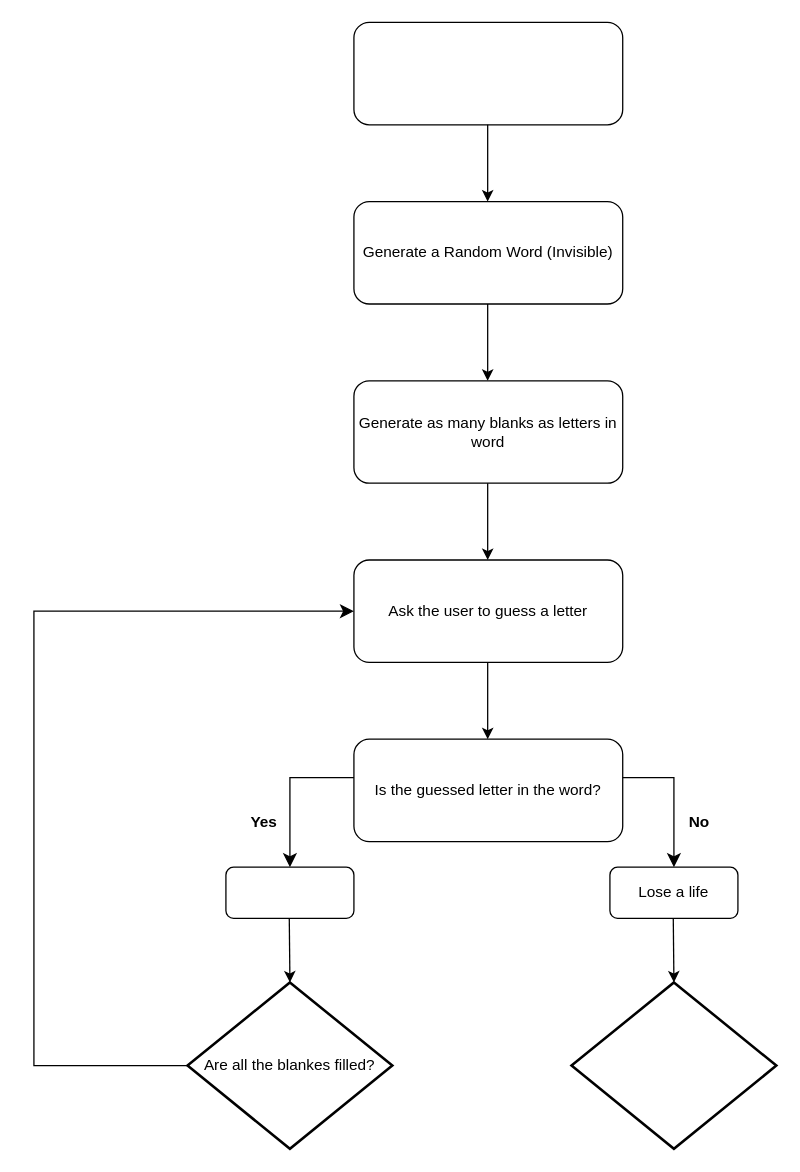
This 800x1172 diagram has some shape labels left out. The shapes that lost their labels are listed below. From the top down, each one's centre as x and y in pixels, then its label:
At [488,73]: "START".
At [289,892]: "Replace the blank space with a letter".
At [673,1064]: "Have they run out of lives?".
